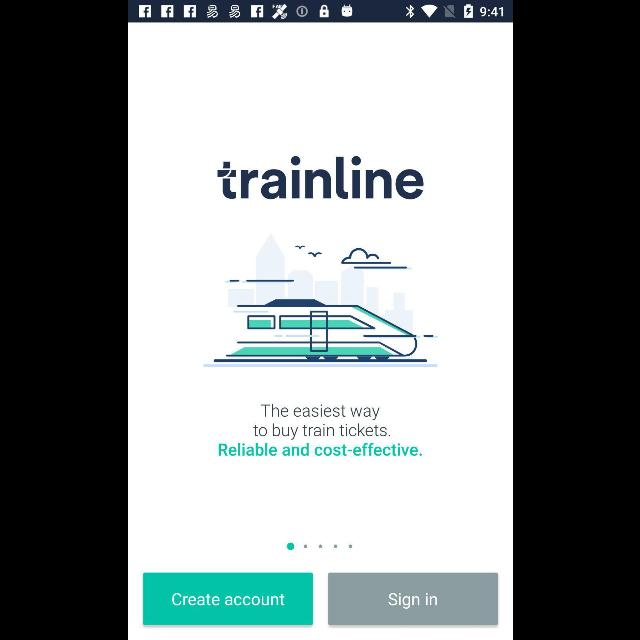image: (202, 232, 438, 368), (217, 156, 423, 200)
pageindicator: (286, 542, 352, 550)
text: (252, 404, 390, 440), (218, 442, 420, 456)
textbutton: (142, 573, 312, 625), (327, 573, 497, 625)
uppertaskbar: (128, 1, 512, 23)
